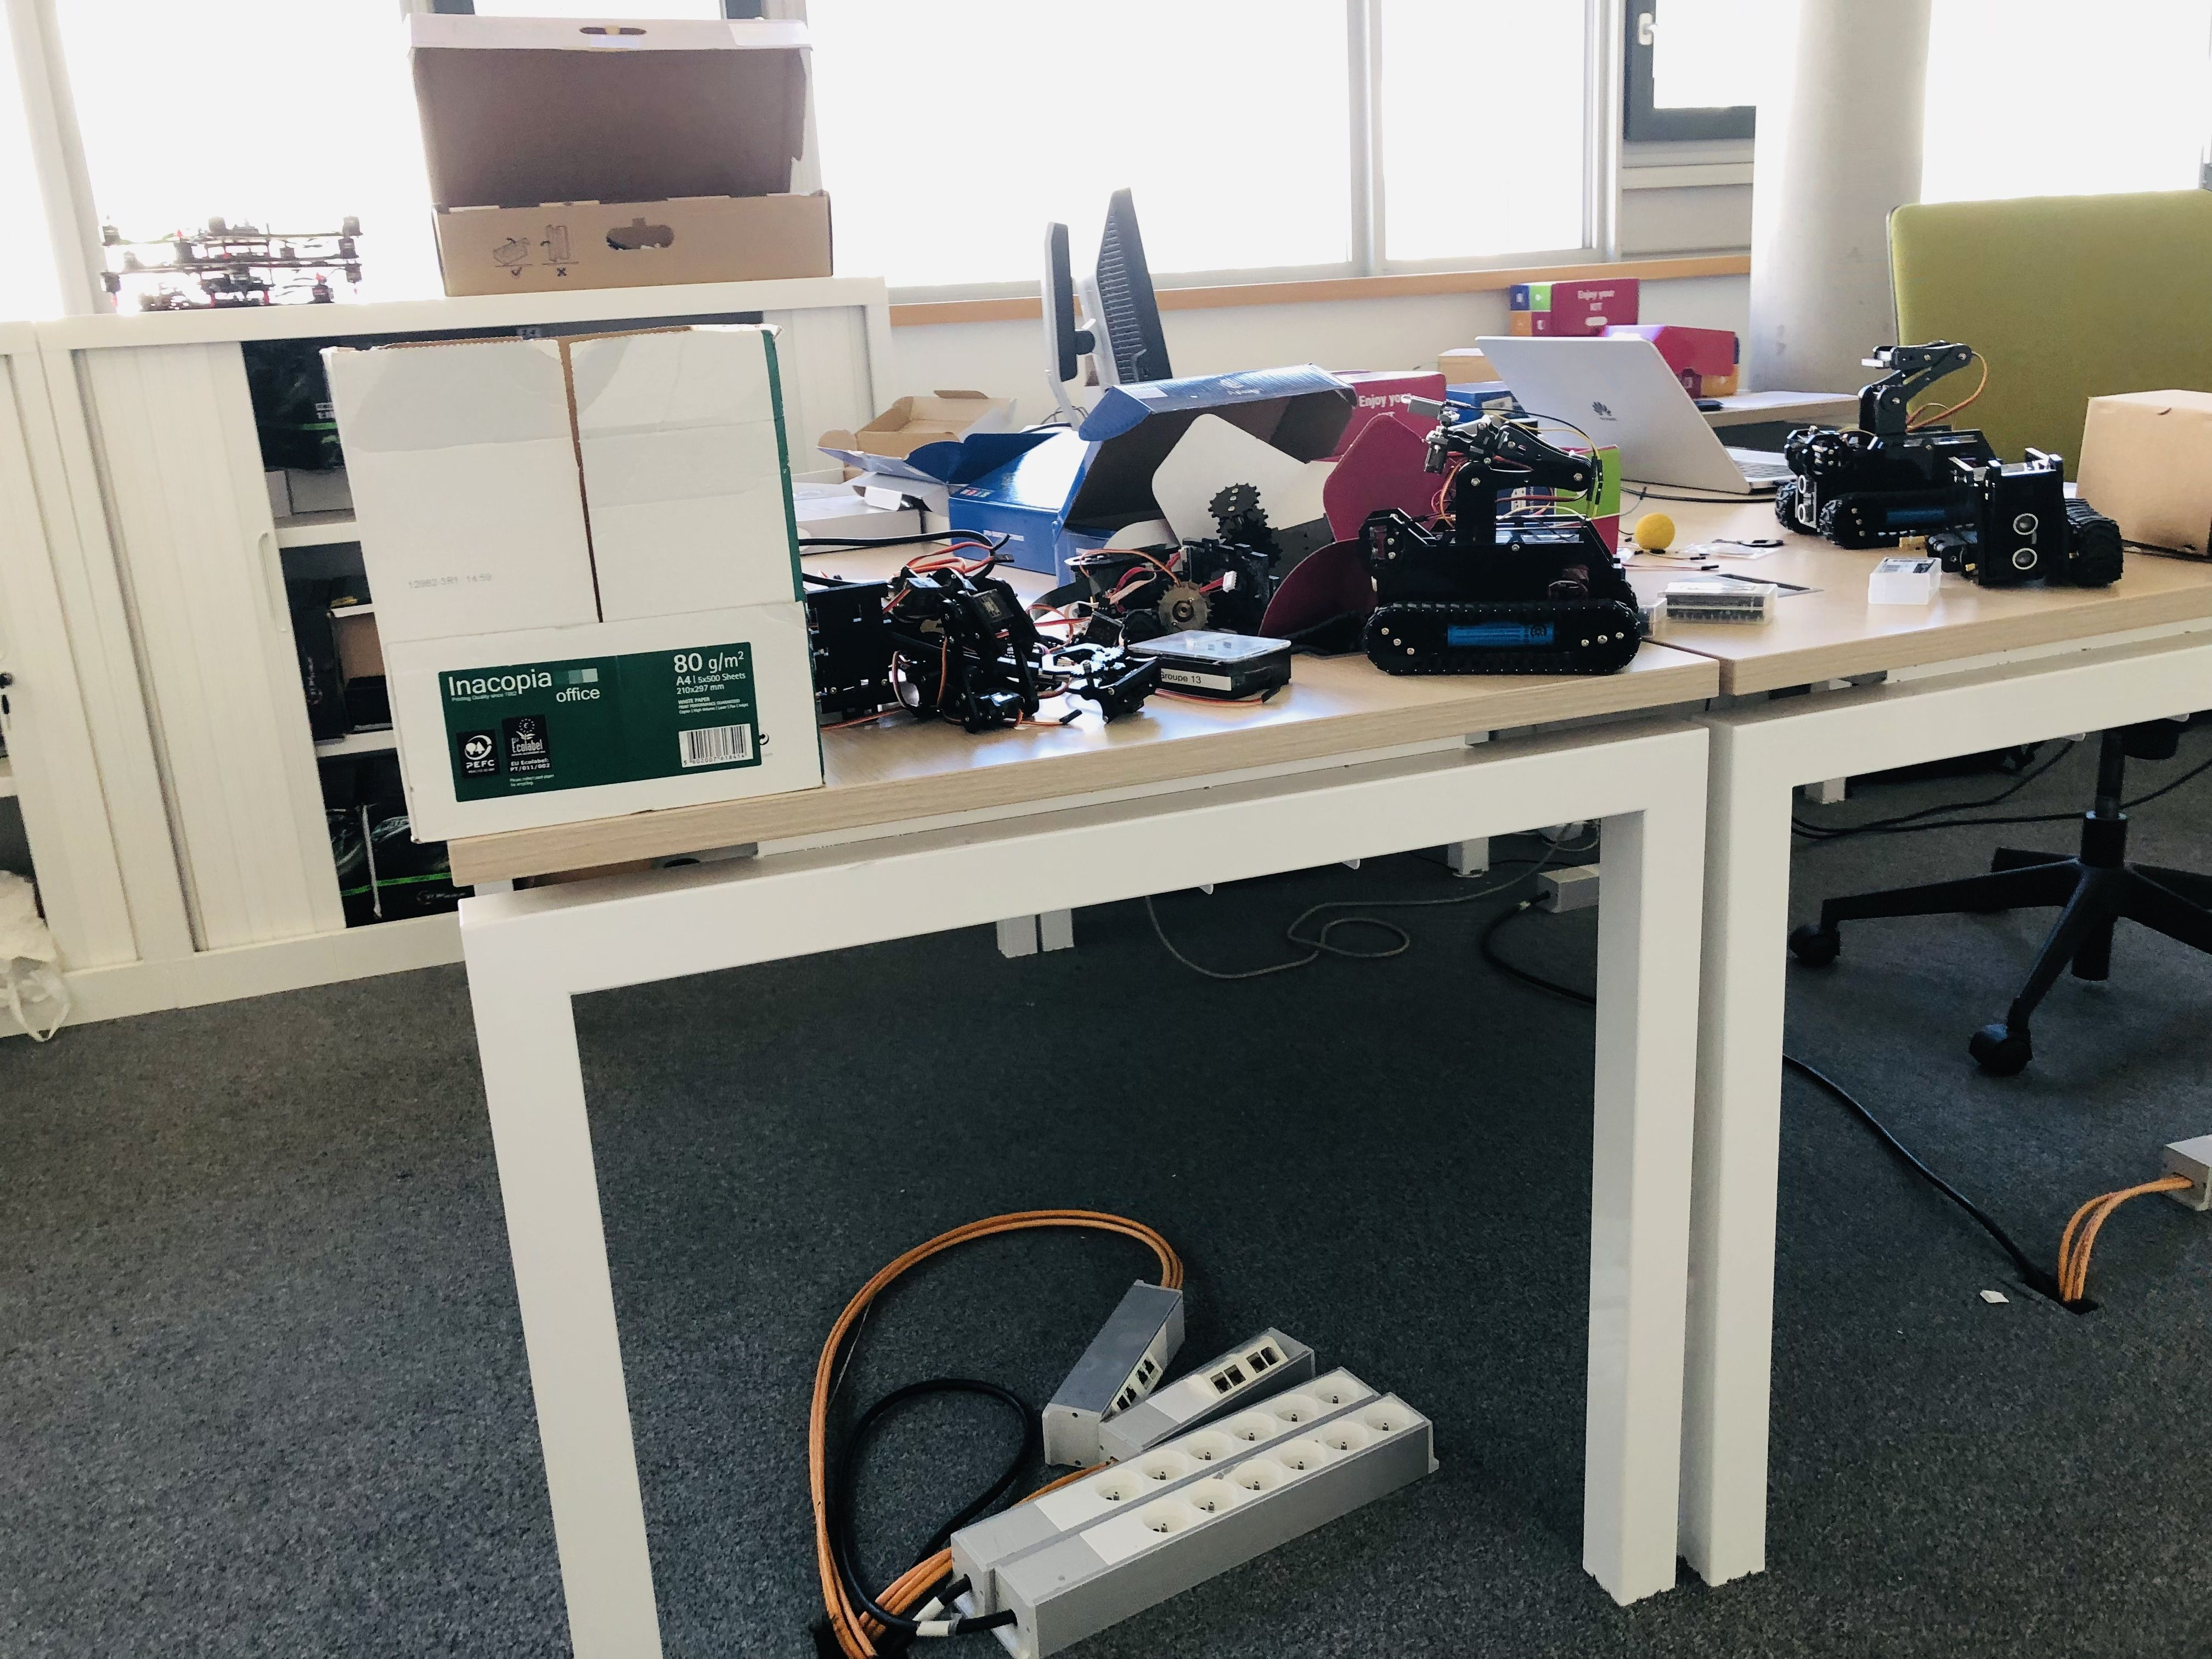rasptank: (1362, 410, 1644, 685)
